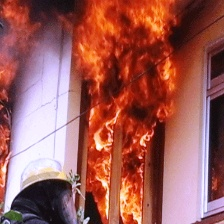fire: (64, 2, 175, 223), (4, 1, 40, 207)
